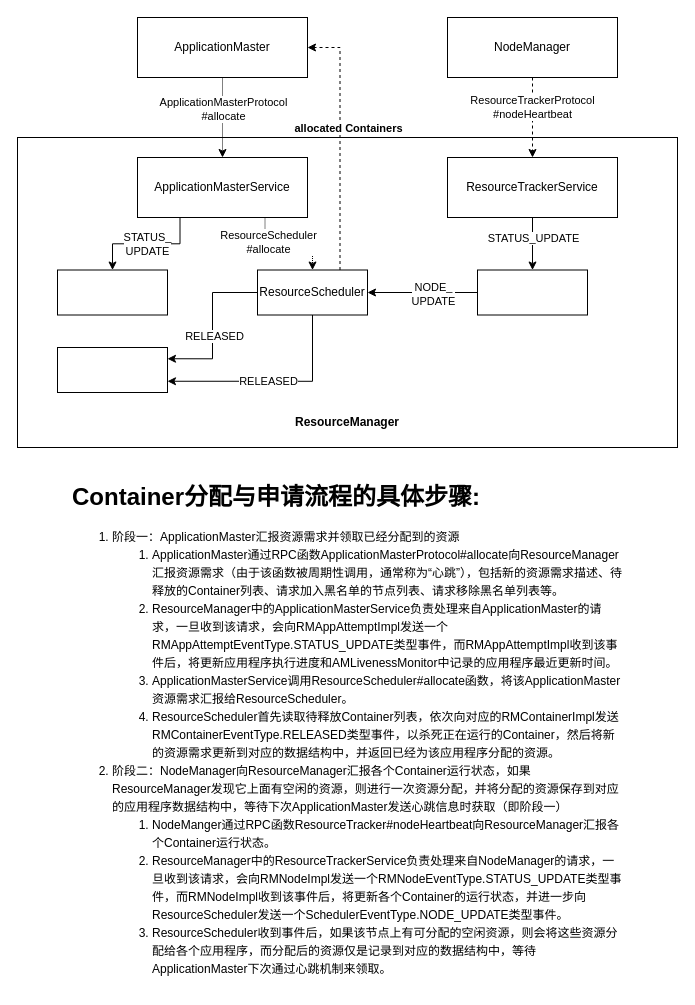
Image size: 695x1005. Some labels were removed from this diagram. Each missing label, with the box of its shape:
RMAppAttemptImpl: (56, 269, 168, 315)
RMContainerImpl: (56, 346, 168, 392)
RMNodeImpl: (476, 269, 588, 315)
